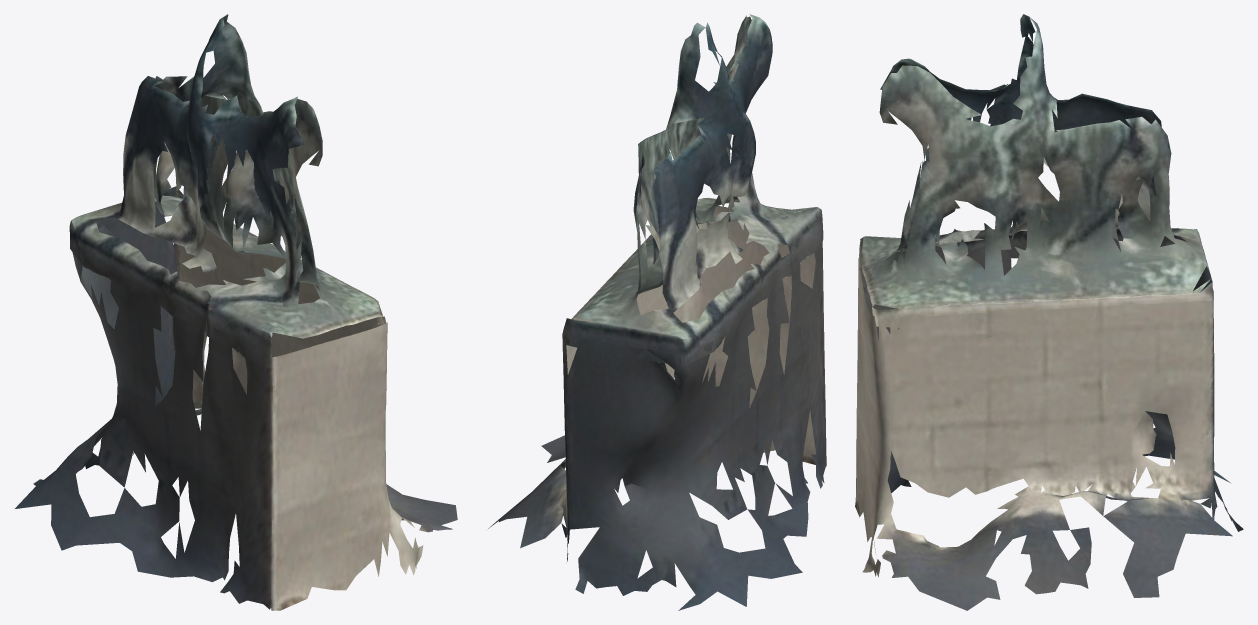
Rendered from mannerheim_equestrian.glb.
3 renders of one model, left to right at view 1: azimuth 30°, elevation 25°; view 2: azimuth 150°, elevation 25°; view 3: azimuth 270°, elevation 25°, orthographic. The views are drawn at different scales.
Parts seen in each view (by area): view 1: mannerheim_equestrian_Baked; view 2: mannerheim_equestrian_Baked; view 3: mannerheim_equestrian_Baked.
Part boxes in pixels (bbox=[...]): mannerheim_equestrian_Baked: bbox=[15, 14, 457, 610]; mannerheim_equestrian_Baked: bbox=[488, 14, 826, 610]; mannerheim_equestrian_Baked: bbox=[855, 14, 1243, 610].
Size of the model in its own units: 6.94 by 10.39 by 7.19.
Materials: 1 (1 with a texture image).
